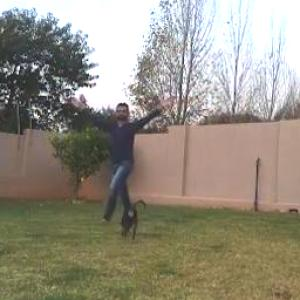takeoff: (96, 89, 205, 226)
